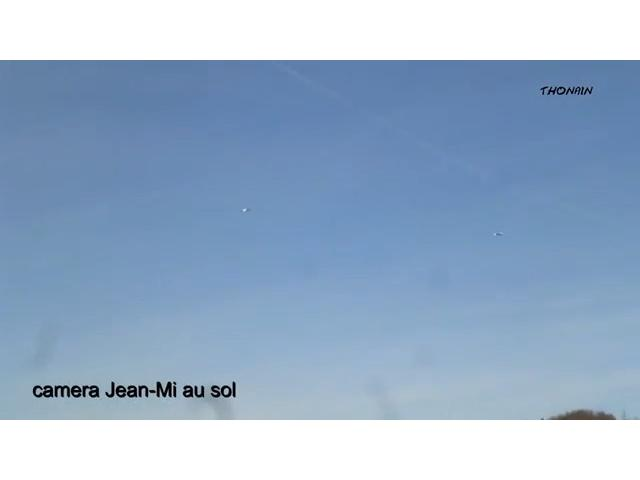Anti-Drone: (236, 202, 258, 222), (486, 226, 510, 242)
